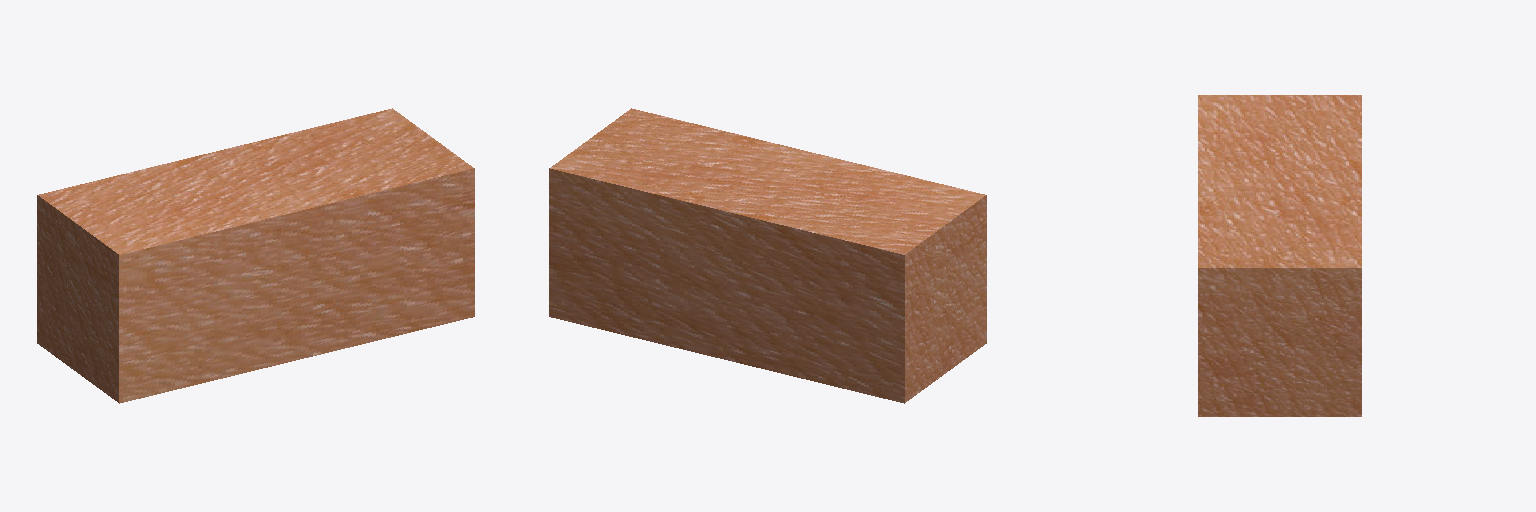
The picture shows the model from 3 angles: view 1: azimuth 30°, elevation 25°; view 2: azimuth 150°, elevation 25°; view 3: azimuth 270°, elevation 25°; orthographic projection.
Visible parts, largest first — view 1: Cube.005_Cube.008; view 2: Cube.005_Cube.008; view 3: Cube.005_Cube.008.
Part boxes in pixels (x1,y1,x2,y2): Cube.005_Cube.008: (37,108,474,403); Cube.005_Cube.008: (549,108,986,403); Cube.005_Cube.008: (1198,95,1361,416).
Bounding box in the file's own units: 1 × 0.4 × 0.4.
Materials: 1 (1 with a texture image).